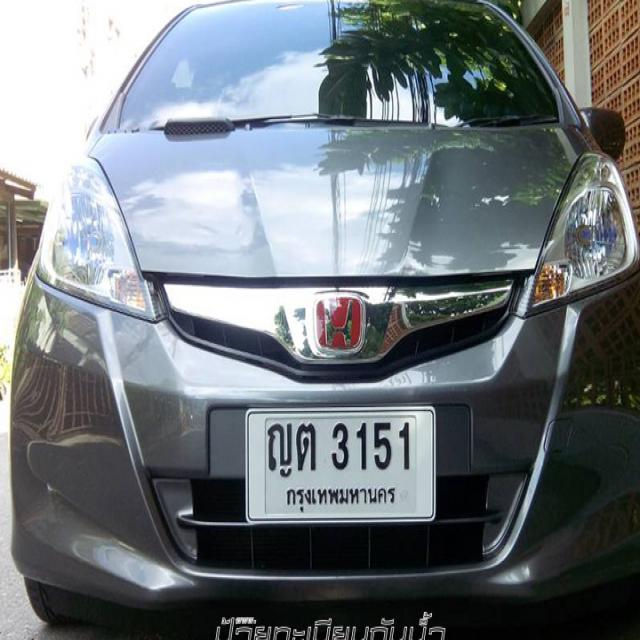license_plate: (245, 404, 438, 526)
